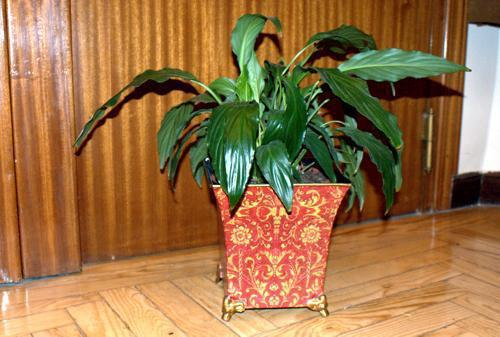Matera: (62, 2, 466, 326)
